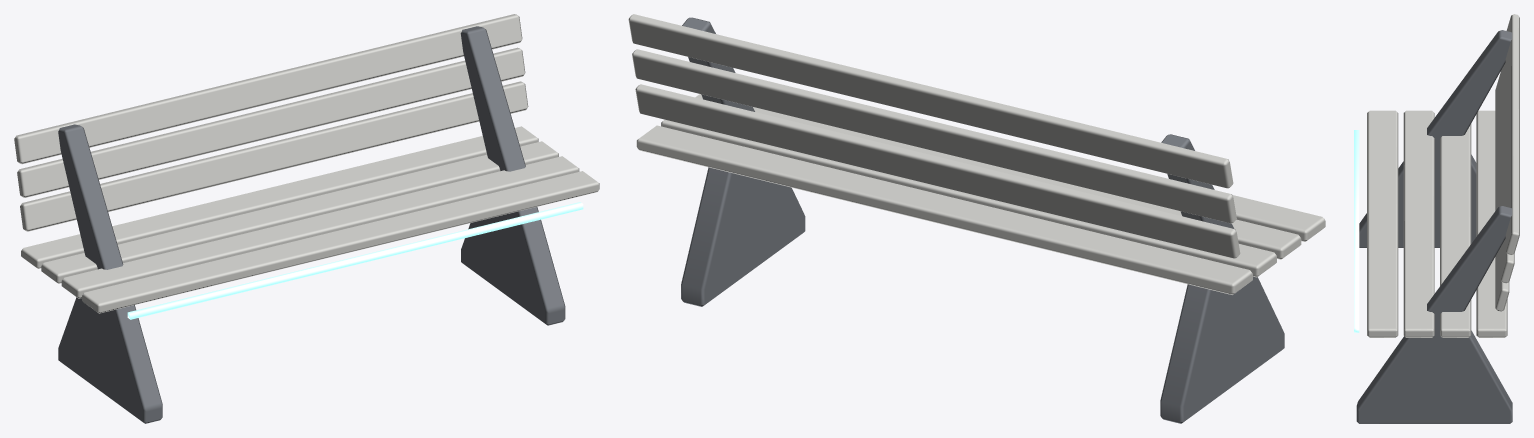
File: kit_bench.glb
The picture shows the model from 3 angles, left to right: view 1: azimuth 30°, elevation 25°; view 2: azimuth 150°, elevation 25°; view 3: azimuth 270°, elevation 25°; orthographic projection. The views are drawn at different scales.
Parts seen in each view (by area): view 1: bench; view 2: bench; view 3: bench.
Boxes of the visible parts, bbox=[...] form: bench: bbox=[14, 14, 599, 423]; bench: bbox=[628, 14, 1325, 423]; bench: bbox=[1354, 14, 1519, 423].
Bounding box in the file's own units: 2 × 0.8973 × 0.6373.
